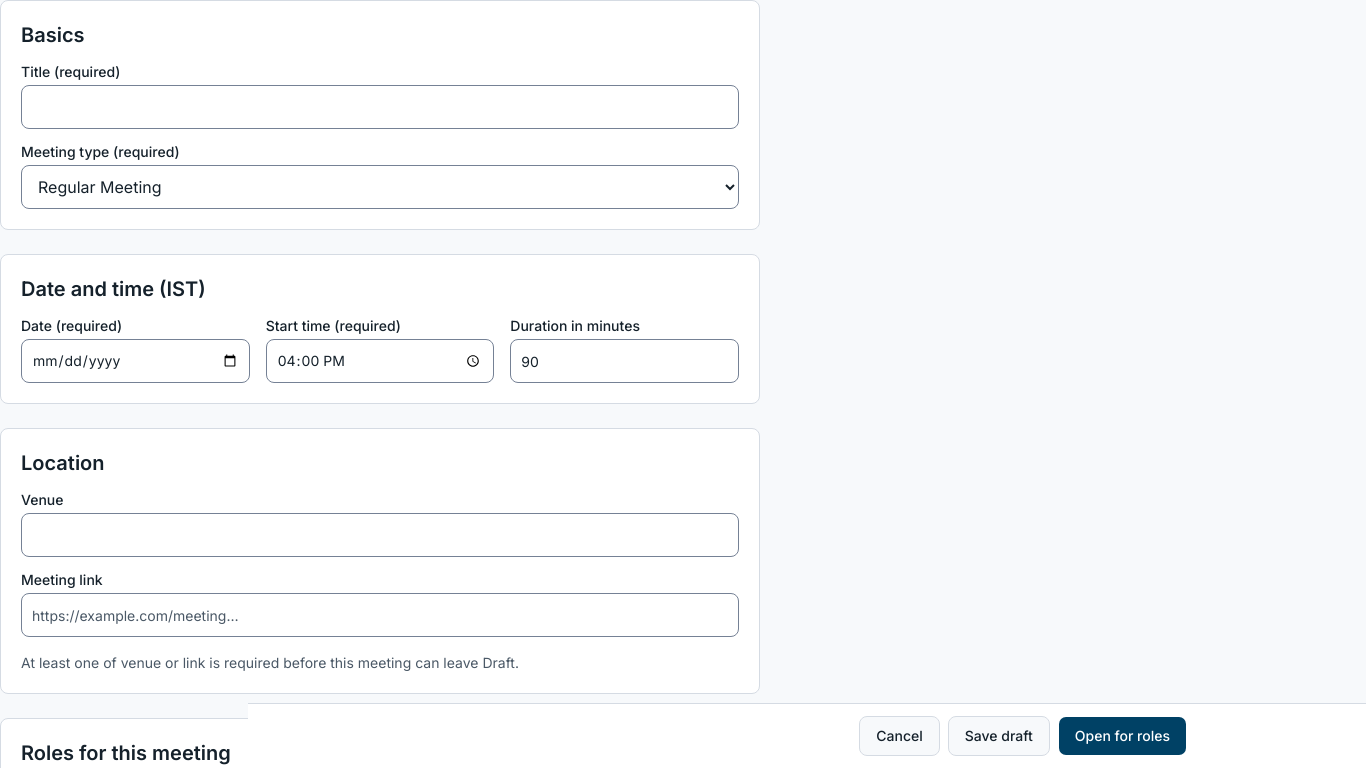
Test case: S-05 create the 31 Oct contest, open it, finalize it (M7 done-when) › empty title and date show field errors
Step 1. Click the button "Save draft" → (999, 736), box [948,716,1050,756]
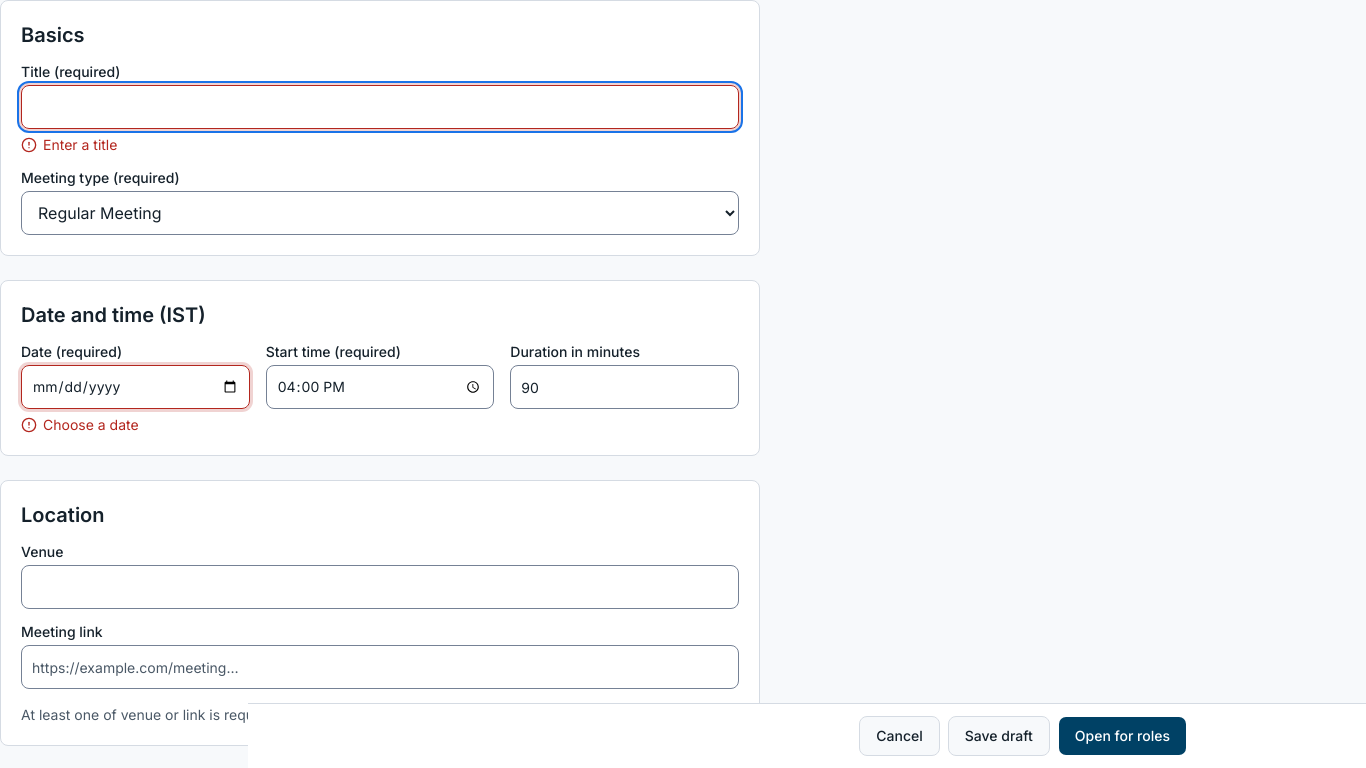
Result: the text "Enter a title" is shown at [21,136,117,153]
Result: the text "Choose a date" is shown at [21,416,139,433]
